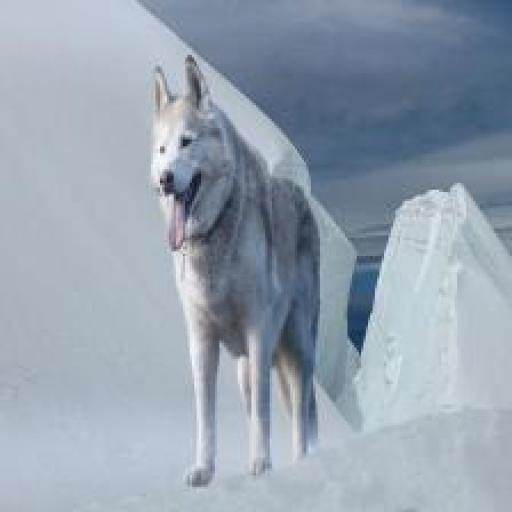wolf: (146, 50, 329, 493)
